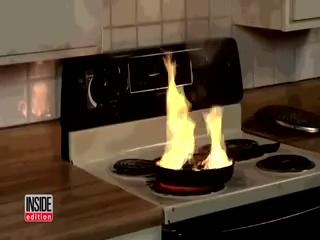Fire: (153, 36, 234, 171)
